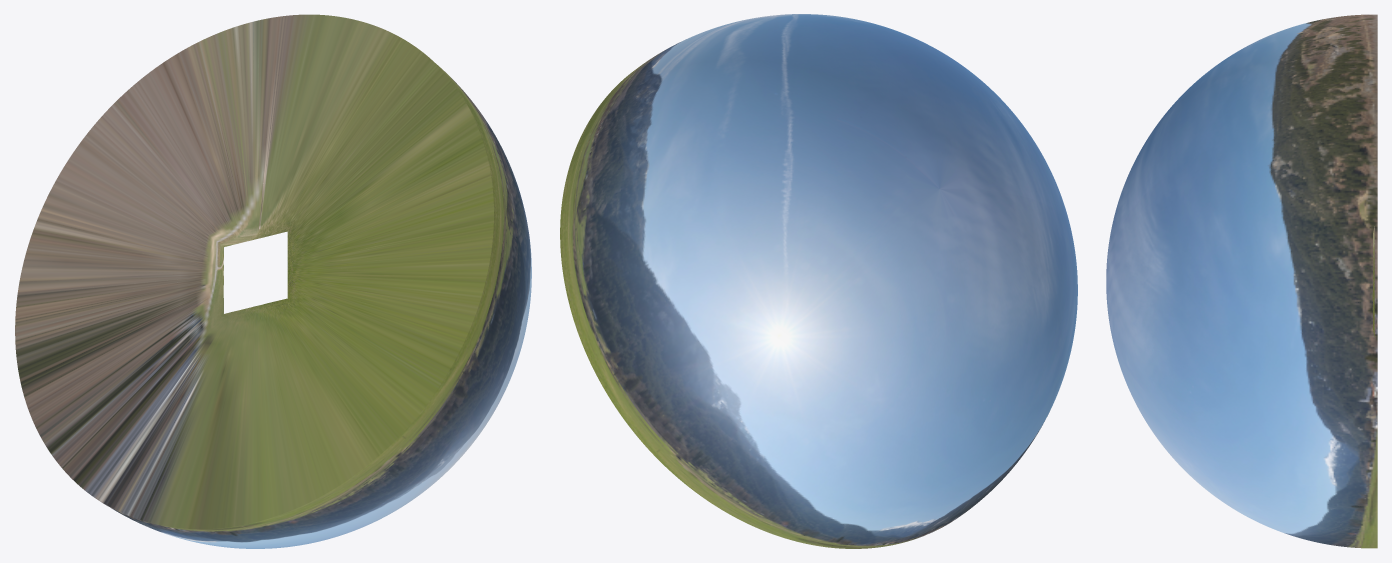
The model's file is panorama.glb.
The picture shows the model from 3 angles, left to right: view 1: azimuth 30°, elevation 25°; view 2: azimuth 150°, elevation 25°; view 3: azimuth 270°, elevation 25°; orthographic projection. The views are drawn at different scales.
Parts seen in each view (by area): view 1: panorama; view 2: panorama; view 3: panorama.
Boxes of the visible parts, bbox=[...] form: panorama: bbox=[15, 14, 531, 548]; panorama: bbox=[560, 14, 1077, 548]; panorama: bbox=[1106, 14, 1377, 548].
Bounding box in the file's own units: 4810 × 4810 × 2442.
Materials: 1 (1 with a texture image).
